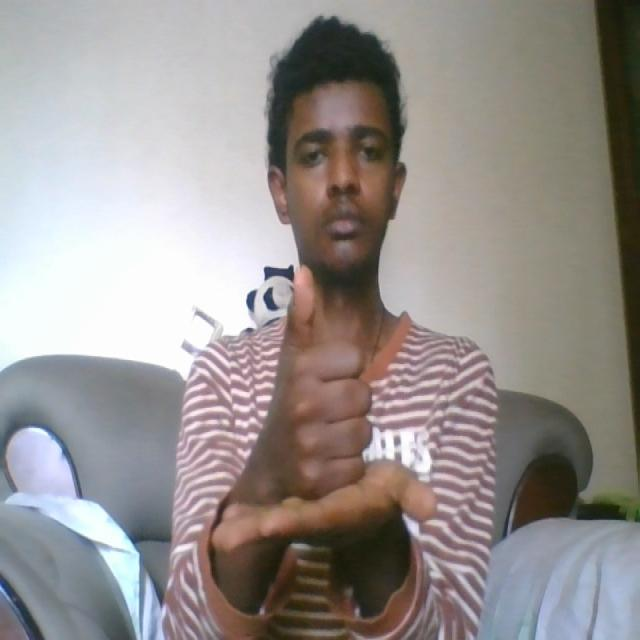amen: (195, 263, 446, 579)
